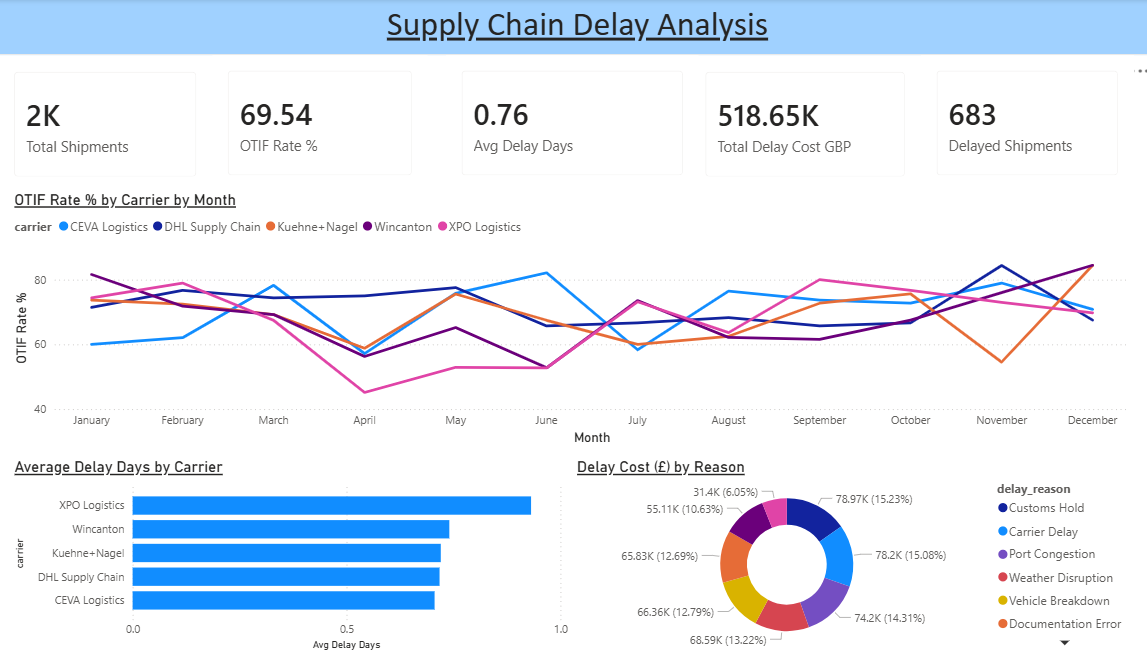

The dashboard page shown, as its layout file describes it:
{"tool":"powerbi","page":{"name":"Units Sold by Category by Month","canvas":[1280,720],"ordinal":2},"visuals":[{"type":"textbox","box":[9.6,0,1270.7,61.7],"z":0},{"type":"cardVisual","fields":{"Data":["supply_chain_delays.Total Shipments"]},"box":[9.6,63.1,234.6,149.6],"z":1},{"type":"cardVisual","fields":{"Data":["supply_chain_delays.OTIF Rate %"]},"box":[244.3,61.7,236,149.6],"z":2},{"type":"cardVisual","fields":{"Data":["supply_chain_delays.Avg Delay Days"]},"box":[500.9,61.7,277.2,149.6],"z":3},{"type":"cardVisual","fields":{"Data":["supply_chain_delays.Total Delay Cost GBP"]},"box":[768.4,63.1,253.9,149.6],"z":4},{"type":"cardVisual","fields":{"Data":["supply_chain_delays.Delayed Shipments"]},"box":[1022.3,61.7,233.3,149.6],"z":5},{"type":"lineChart","title":"OTIF Rate % by Carrier by Month","fields":{"Category":["supply_chain_delays.ship_date.Variation.Date Hierarchy.Month"],"Y":["supply_chain_delays.OTIF Rate %"],"Series":["supply_chain_delays.carrier"]},"box":[22,209.9,1233.6,284],"z":6},{"type":"clusteredBarChart","title":"Average Delay Days by Carrier","fields":{"Category":["supply_chain_delays.carrier"],"Y":["supply_chain_delays.Avg Delay Days"]},"box":[22,503.6,617.5,216.8],"z":7},{"type":"donutChart","title":"Delay Cost (£) by Reason","fields":{"Category":["supply_chain_delays.delay_reason"],"Y":["supply_chain_delays.Total Delay Cost GBP"]},"box":[639,504,617,216],"z":8}]}

Visuals, with their boxes in screenshot pixels (x1, y1, x2, y2), scaled from the page's 1280x720 canvas onto the 1147x653 screenshot:
textbox: <bbox>9, 0, 1146, 56</bbox>
cardVisual - supply_chain_delays.Total Shipments: <bbox>9, 57, 219, 193</bbox>
cardVisual - supply_chain_delays.OTIF Rate %: <bbox>219, 56, 430, 192</bbox>
cardVisual - supply_chain_delays.Avg Delay Days: <bbox>449, 56, 697, 192</bbox>
cardVisual - supply_chain_delays.Total Delay Cost GBP: <bbox>689, 57, 916, 193</bbox>
cardVisual - supply_chain_delays.Delayed Shipments: <bbox>916, 56, 1125, 192</bbox>
"OTIF Rate % by Carrier by Month" lineChart: <bbox>20, 190, 1125, 448</bbox>
"Average Delay Days by Carrier" clusteredBarChart: <bbox>20, 457, 573, 652</bbox>
"Delay Cost (£) by Reason" donutChart: <bbox>573, 457, 1125, 652</bbox>
